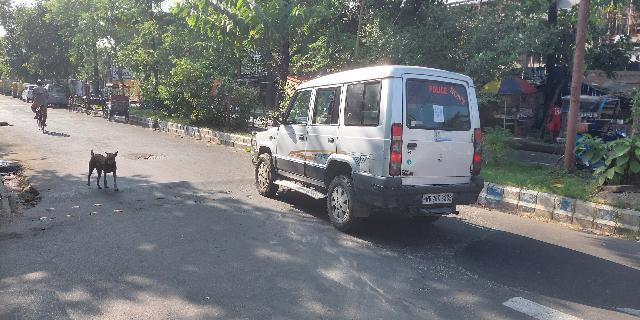Car: (246, 51, 506, 236)
